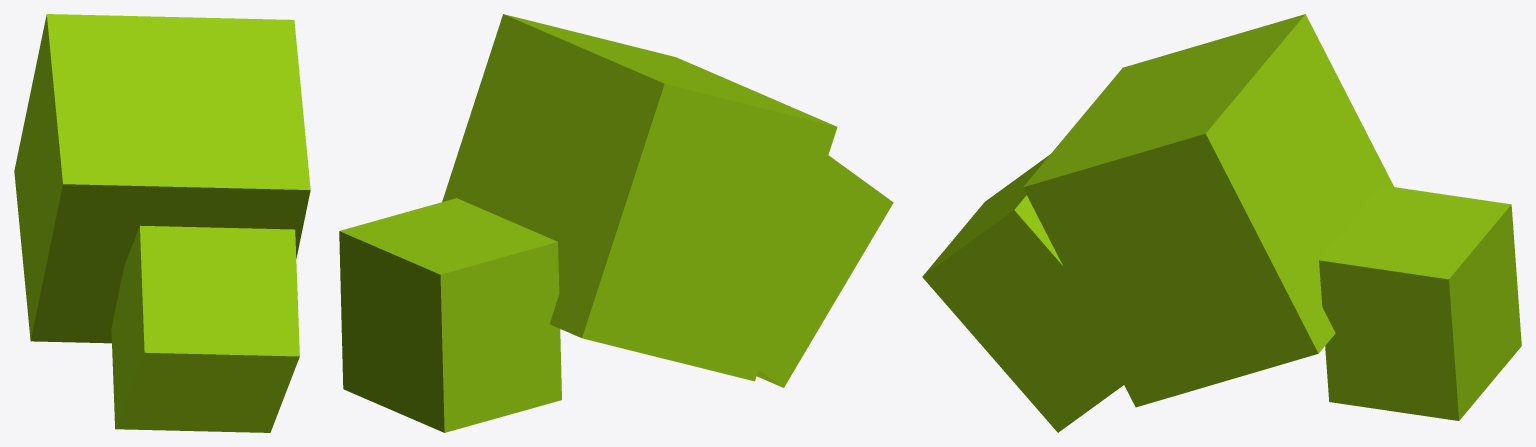
Rendered from tree_big_6_boxy.fbx.
3 views of the same model, side by side, from view 1: azimuth 30°, elevation 25°; view 2: azimuth 150°, elevation 25°; view 3: azimuth 270°, elevation 25° (orthographic). The views are drawn at different scales.
Visible parts, largest first — view 1: tree_big_6_boxy; view 2: tree_big_6_boxy; view 3: tree_big_6_boxy.
Part boxes in pixels (x1,y1,x2,y2): tree_big_6_boxy: [14, 14, 310, 432]; tree_big_6_boxy: [339, 14, 893, 432]; tree_big_6_boxy: [922, 14, 1521, 432].
Bounding box in the file's own units: 160 × 178 × 264.
